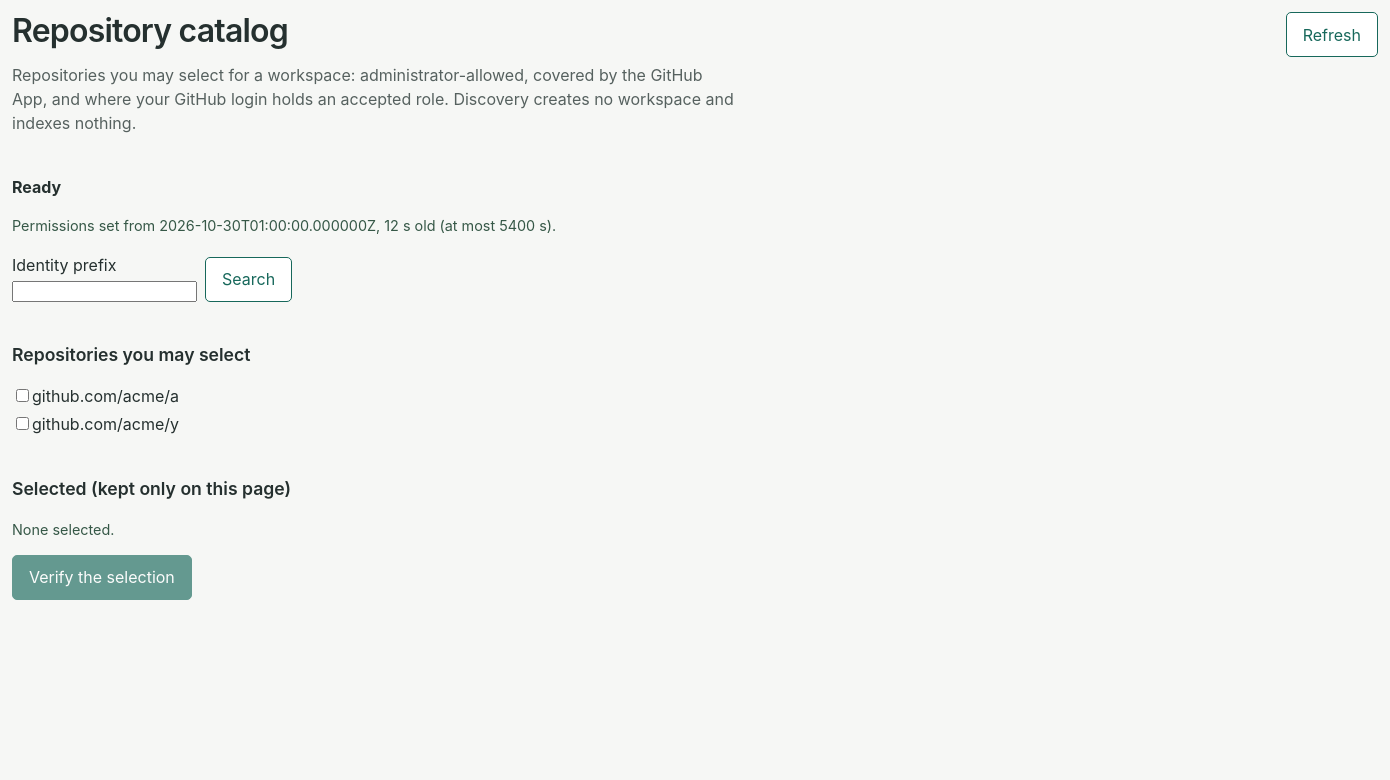
Test: a verification posts the selection and shows the server's state for each, in text
This screenshot has width=1390, height=780.
Expected: the button "Verify the selection" is disabled, [12,555,192,600]
Click the checkbox labelled "github.com/acme/a".
click(22, 396)  # box [16,389,29,402]
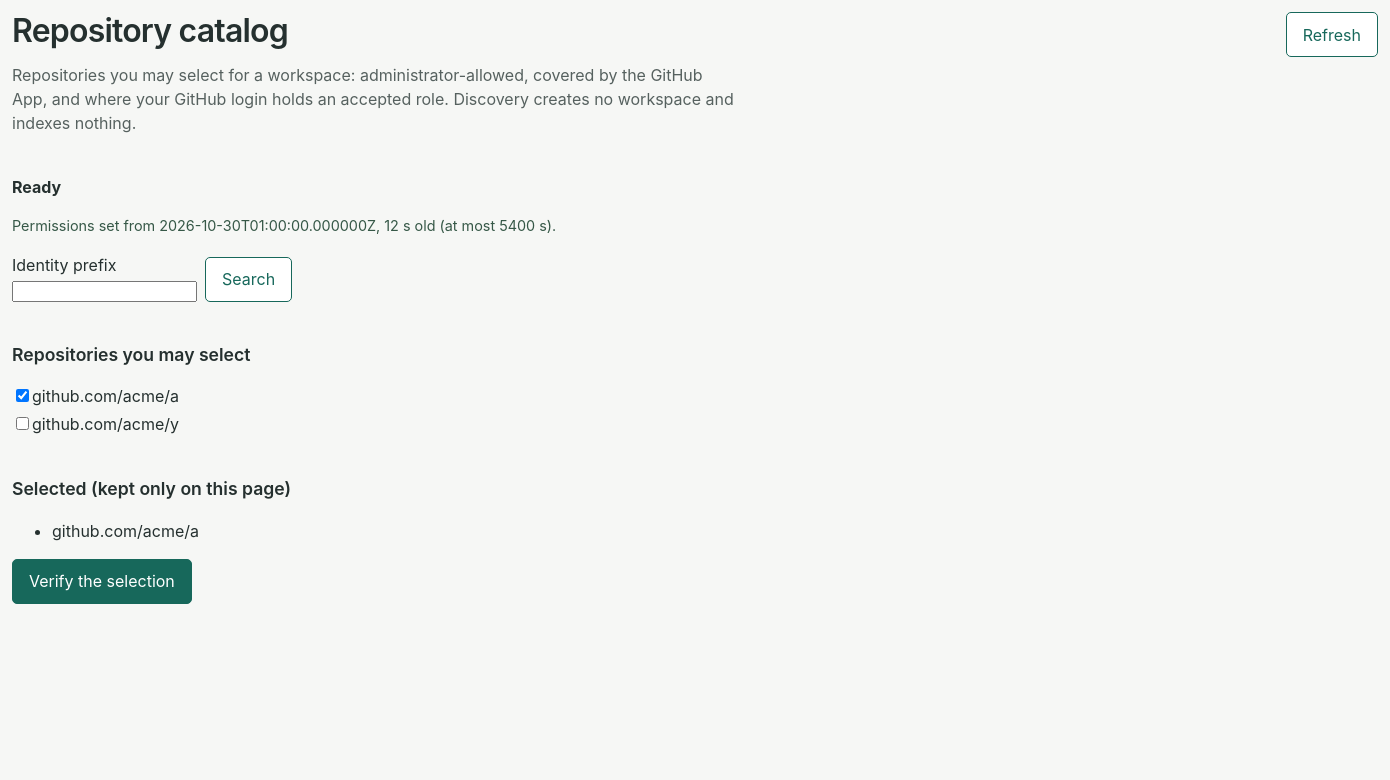
Click the checkbox labelled "github.com/acme/y".
click(22, 424)  # box [16,417,29,430]
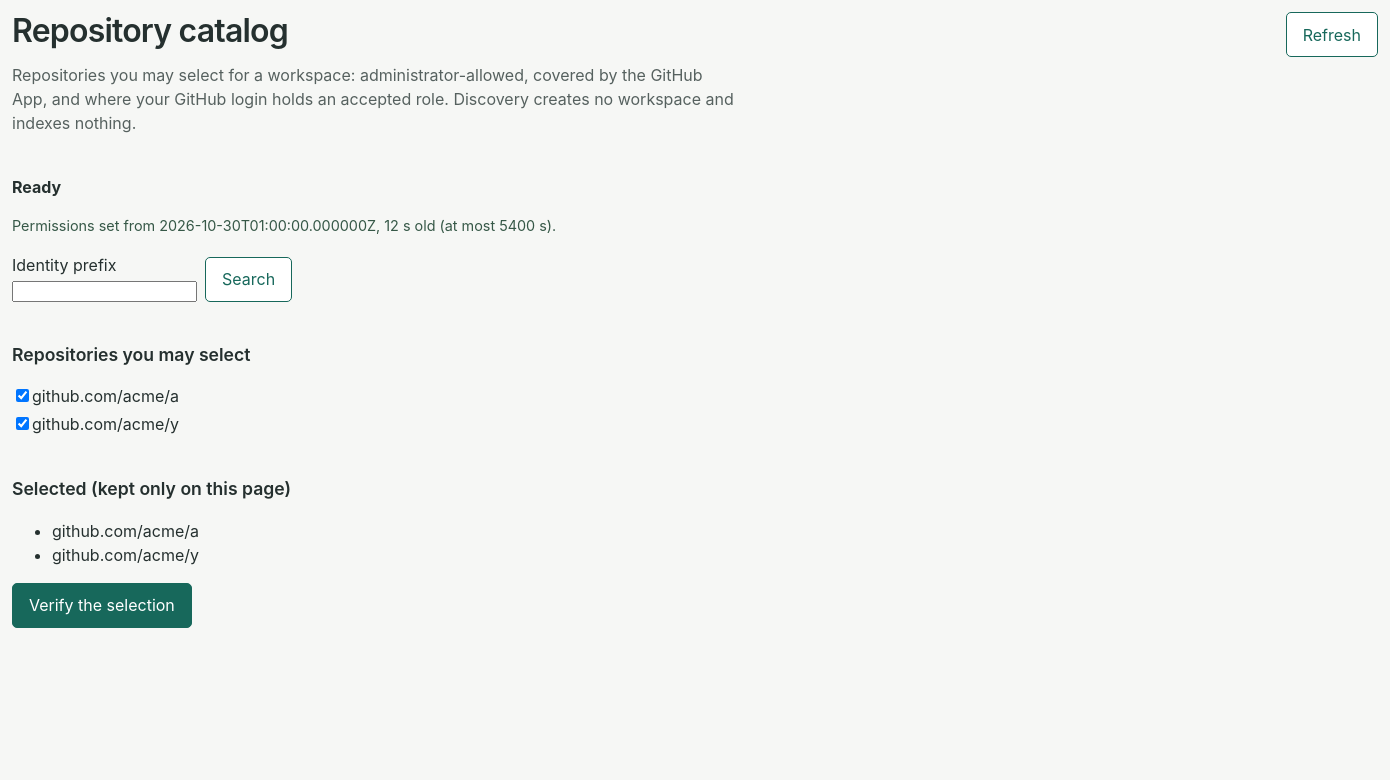
Click the button "Verify the selection".
click(102, 605)  # box [12,583,192,628]
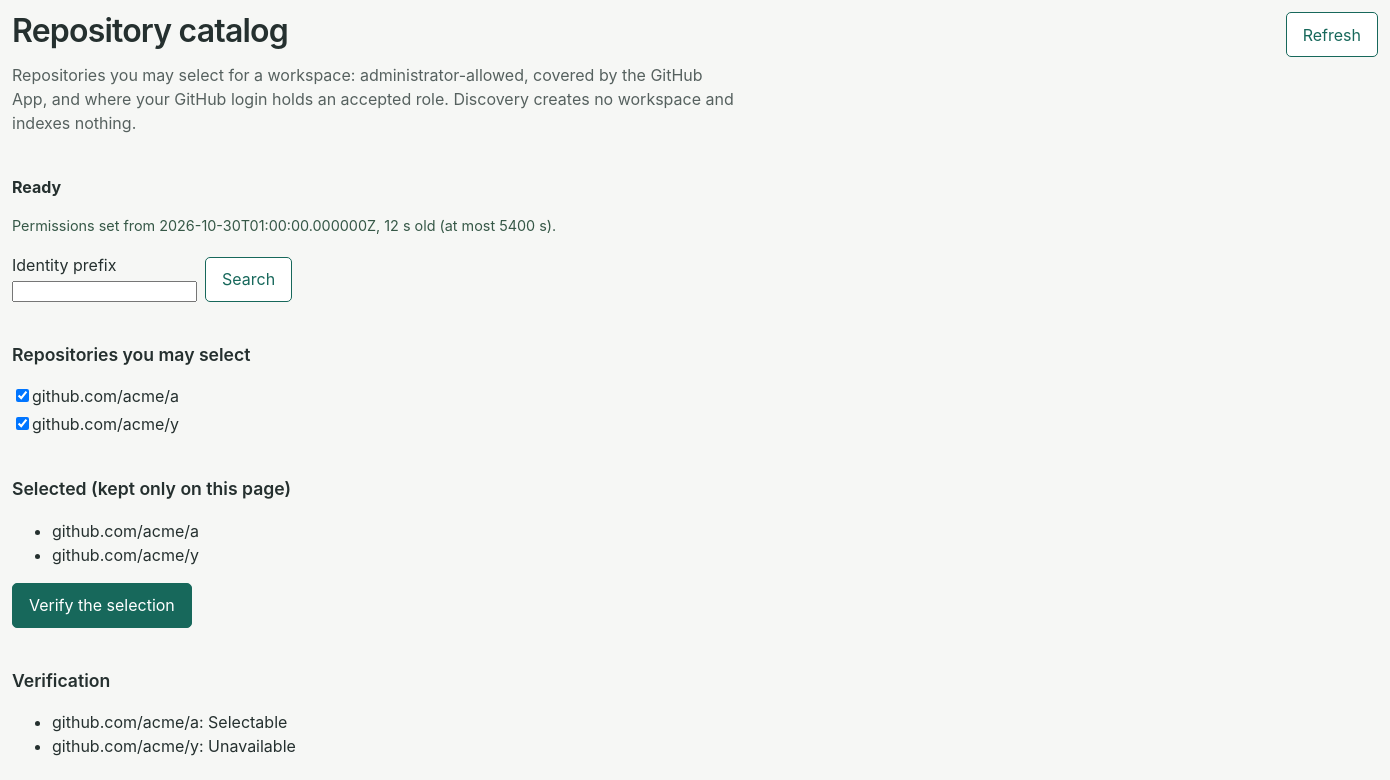
Result: the element "Verification" is shown at [12,670,296,756]
